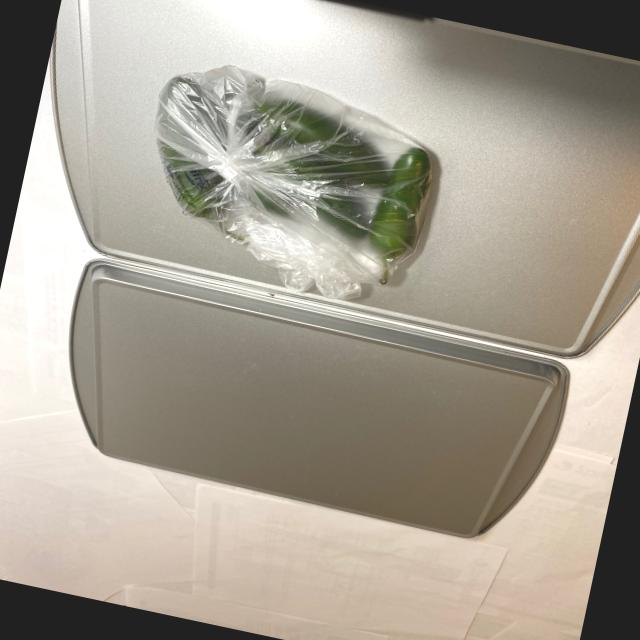chilli: (130, 58, 453, 292)
